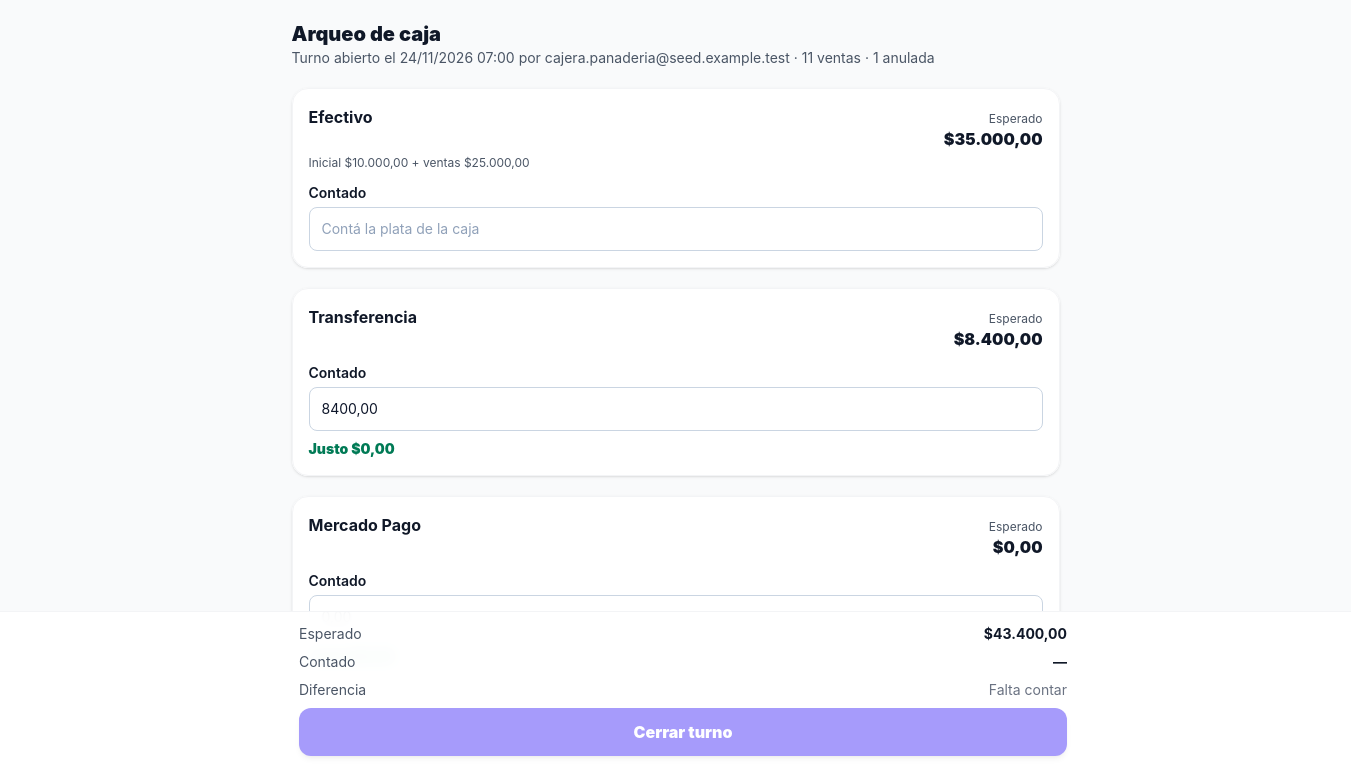
Cierre de caja (/ventas/turnos/:id/cerrar) › al actualizar lo esperado, respeta un monto que la persona ya corrigió a mano
Type "35000" into the field named "Contado en efectivo".
click(676, 229); type("35000")  # box top-left (308, 207), bottom-right (1042, 251)
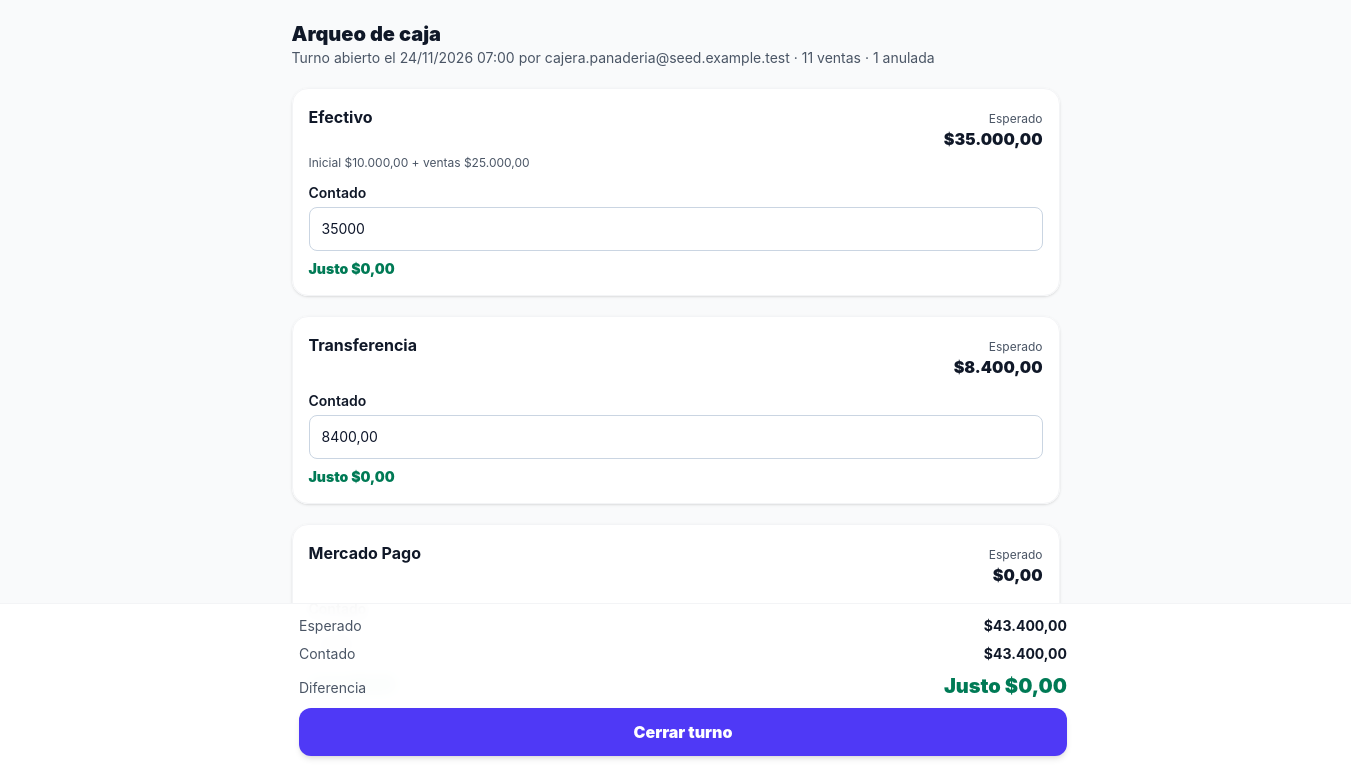
Replace the text in the field named "Contado por transferencia" with "8.000" at (676, 437), box top-left (308, 415), bottom-right (1042, 459)
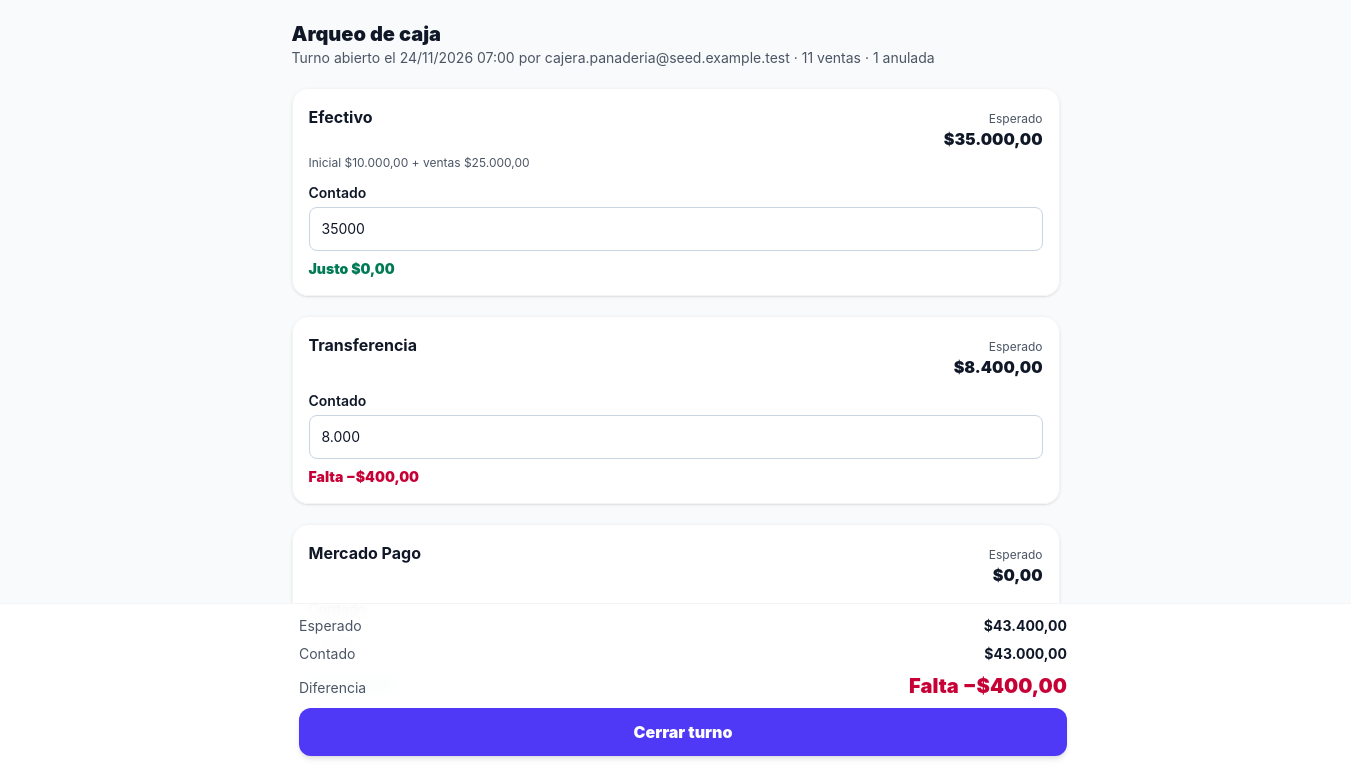
Click the button "Cerrar turno".
click(683, 732)  # box top-left (299, 708), bottom-right (1067, 756)
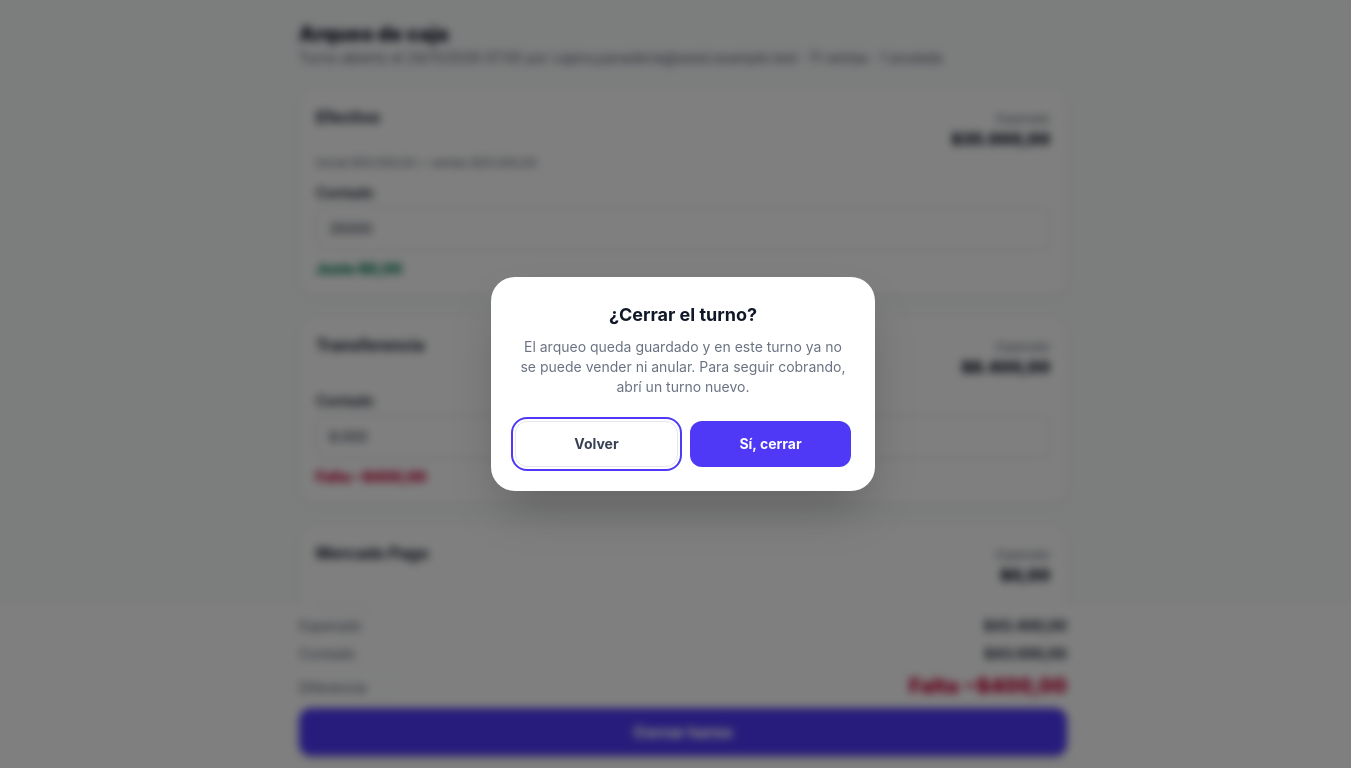
Click the button "Sí, cerrar".
click(770, 444)  # box top-left (690, 421), bottom-right (851, 467)
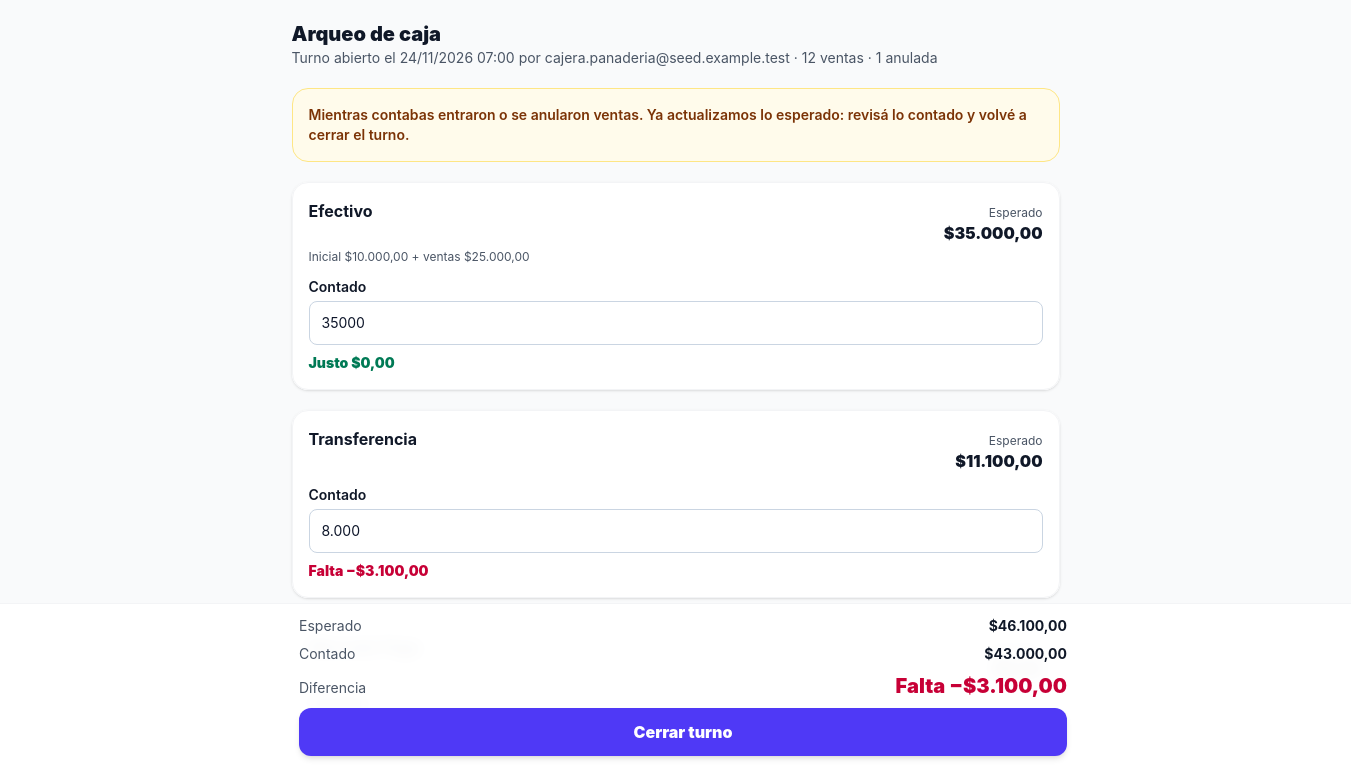
Check: the message is shown, box top-left (292, 88), bottom-right (1060, 162)
